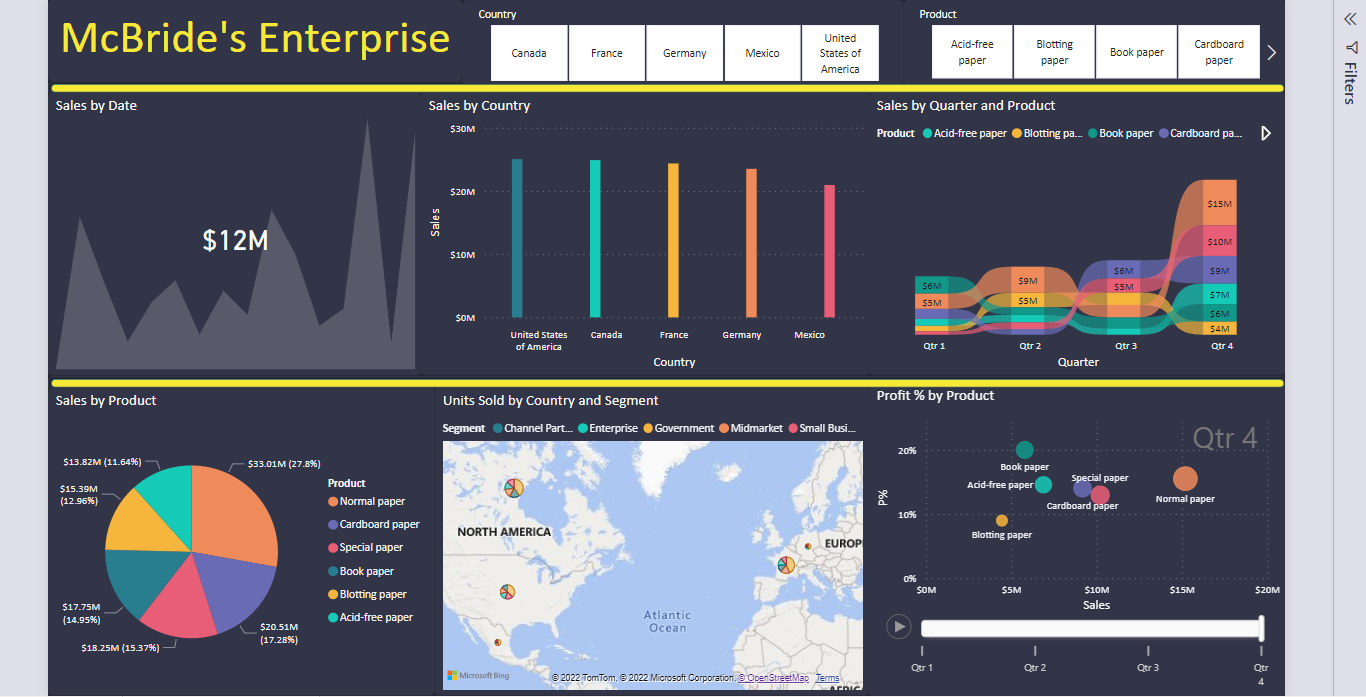

This screenshot's page, from the dashboard's own definition file:
{"tool":"powerbi","page":{"name":"Overview","canvas":[1280,720],"ordinal":0},"visuals":[{"type":"kpi","fields":{"Indicator":["Sum(Sheet1. Sales)"],"TrendLine":["Sheet1.Date"]},"box":[0,96.5,385.9,292.3],"z":0},{"type":"clusteredColumnChart","title":" Sales by Country","fields":{"Y":["Sum(Sheet1. Sales)"],"Category":["Sheet1.Country"],"Series":["Sheet1.Country"]},"box":[385.9,96.5,463.7,292.3],"z":1000},{"type":"ribbonChart","fields":{"Category":["Sheet1.Date.Variation.Date Hierarchy.Quarter"],"Y":["Sum(Sheet1. Sales)"],"Series":["Sheet1.Product"]},"box":[849.6,96.5,430.6,292.3],"z":2000},{"type":"pieChart","fields":{"Y":["Sum(Sheet1. Sales)"],"Category":["Sheet1.Product"]},"box":[0,401.8,400.3,318.2],"z":3000},{"type":"map","fields":{"Category":["Sheet1.Country"],"Size":["Sum(Sheet1.Units Sold)"],"Series":["Sheet1.Segment"]},"box":[400.3,401.8,449.3,318.2],"z":4000},{"type":"scatterChart","title":" Profit % by Product","fields":{"X":["Sum(Sheet1. Sales)"],"Series":["Sheet1.Product"],"Y":["Sheet1.P%"],"Size":["Sum(Sheet1.Profit)"],"Play":["Sheet1.Date.Variation.Date Hierarchy.Quarter"]},"box":[849.6,396,430.6,324],"z":5000},{"type":"slicer","fields":{"Values":["Sheet1.Product"]},"box":[885.6,0,394.6,89.3],"z":6000},{"type":"slicer","fields":{"Values":["Sheet1.Country"]},"box":[429.1,0,456.5,89.3],"z":7000},{"type":"shape","box":[0,83.5,1280.2,13],"z":8000},{"type":"shape","box":[0,388.8,1280.2,13],"z":9000},{"type":"textbox","box":[0,0,429.1,83.5],"z":10000}]}

Visuals, with their boxes on the page's 1280x720 design canvas (x1, y1, x2, y2). These are canvas units, not pixel positions in the 1366x697 screenshot, which may show the page scaled, cropped or inside an application window:
kpi - Sum(Sheet1. Sales) x Sheet1.Date: Rect(0, 96, 386, 389)
" Sales by Country" clusteredColumnChart: Rect(386, 96, 850, 389)
ribbonChart - Sheet1.Date.Variation.Date Hierarchy.Quarter x Sum(Sheet1. Sales): Rect(850, 96, 1280, 389)
pieChart - Sum(Sheet1. Sales) x Sheet1.Product: Rect(0, 402, 400, 720)
map - Sheet1.Country x Sum(Sheet1.Units Sold): Rect(400, 402, 850, 720)
" Profit % by Product" scatterChart: Rect(850, 396, 1280, 720)
slicer - Sheet1.Product: Rect(886, 0, 1280, 89)
slicer - Sheet1.Country: Rect(429, 0, 886, 89)
shape: Rect(0, 84, 1280, 96)
shape: Rect(0, 389, 1280, 402)
textbox: Rect(0, 0, 429, 84)
